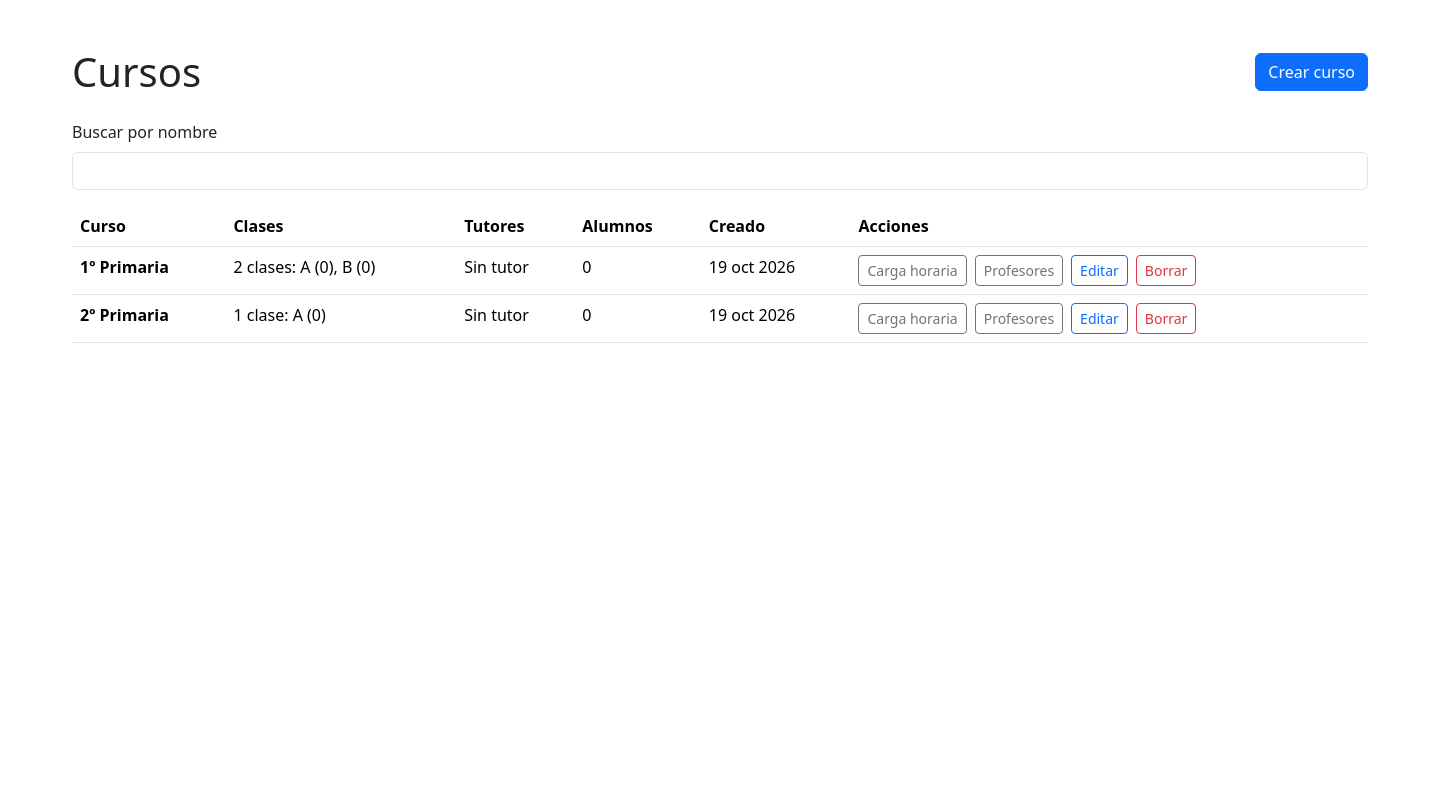
CoursesPage › on a wide screen › deleting a course › opens the dialog of the course whose button is pressed, asking for its impact
Click the button with aria-label "Borrar 2º Primaria" at (1166, 318), box [1136,303,1196,334]
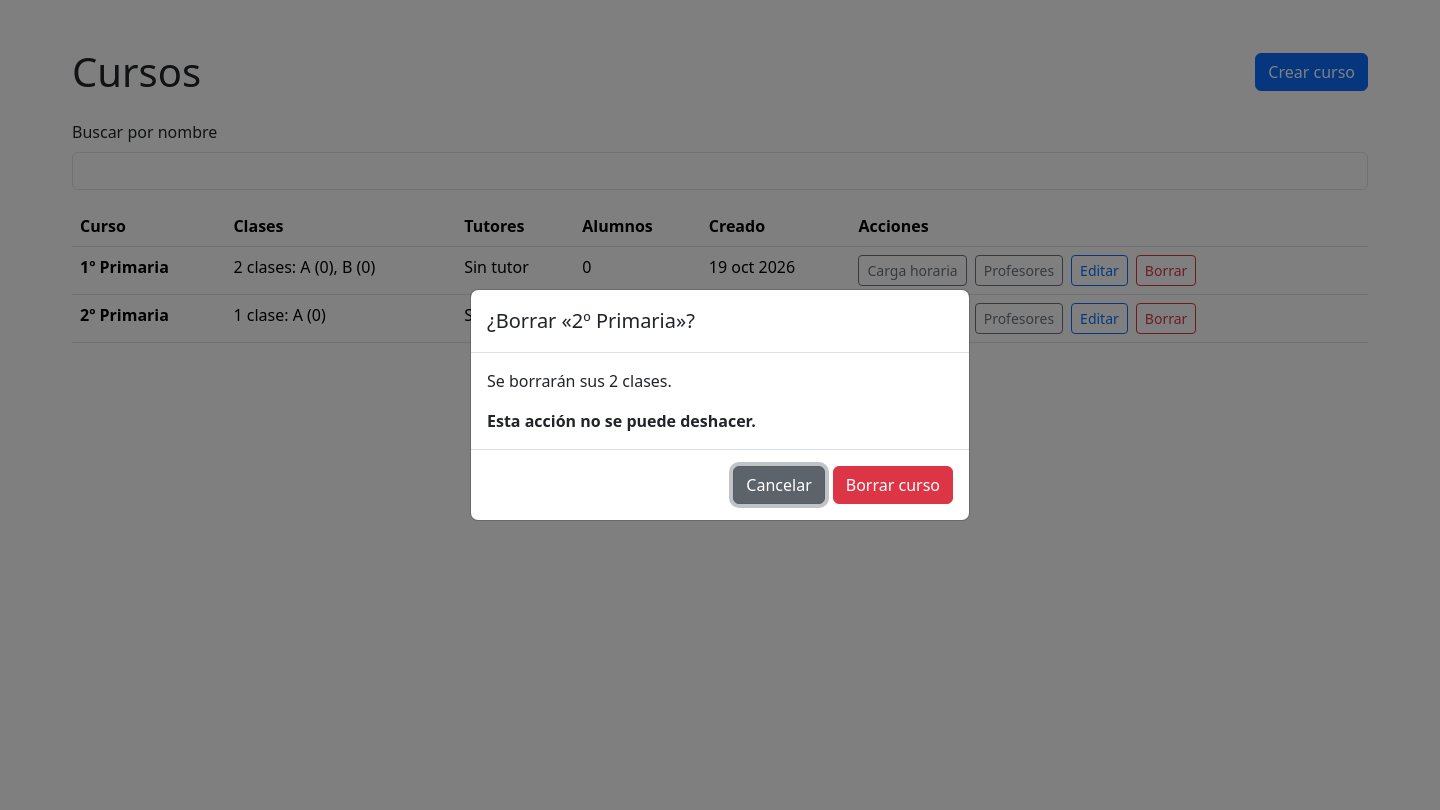
Now the dialog "¿Borrar «2º Primaria»?" is shown, box [470,289,970,521]
Now the text "Se borrarán sus 2 clases." is shown, box [487,370,672,392]
